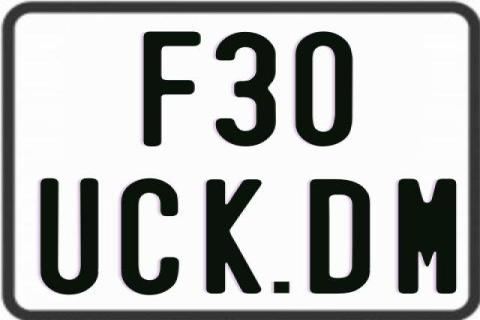0: (292, 31, 354, 151), (215, 29, 279, 145)
C: (118, 177, 176, 293)
D: (308, 179, 374, 295)
F: (143, 29, 207, 149)
K: (204, 179, 264, 297)
M: (396, 179, 455, 295)
U: (38, 178, 96, 298)
